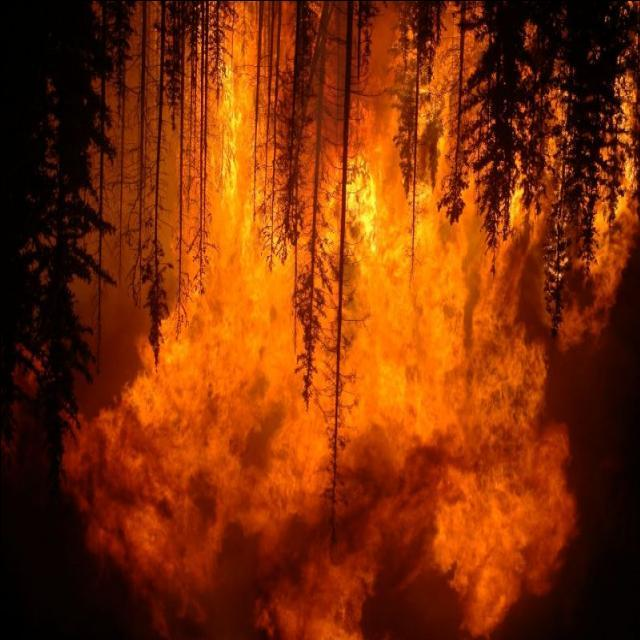Fire: (53, 2, 633, 630)
